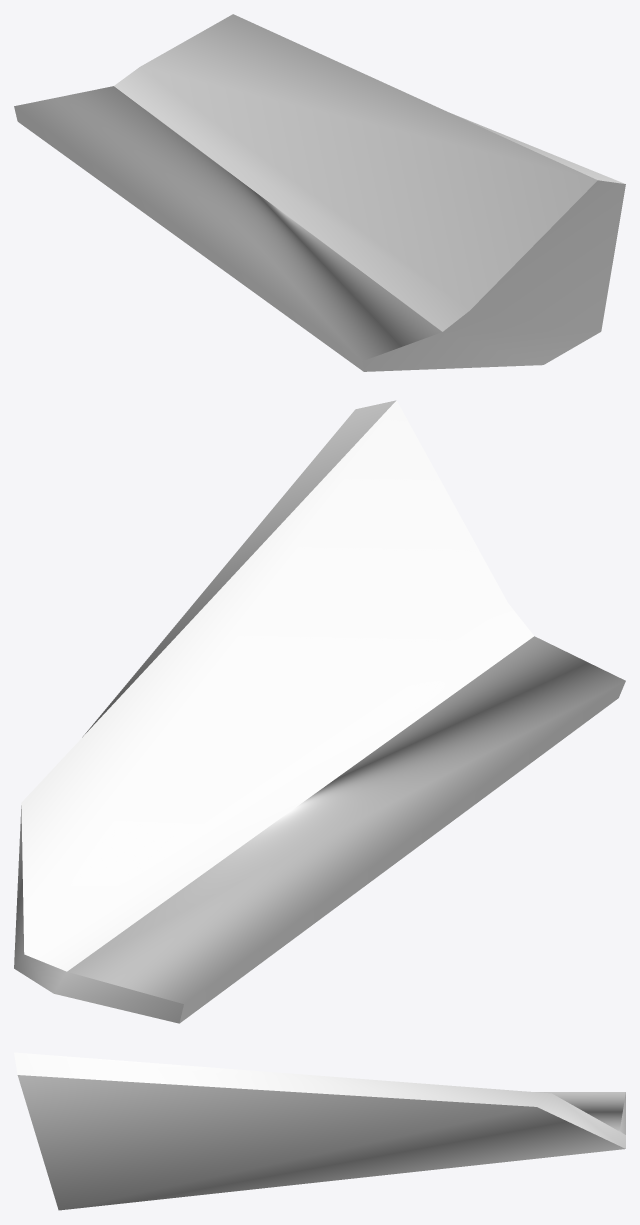
The model's file is wg_r_b_ssk.glb.
3 renders of one model, top to bottom at view 1: azimuth 30°, elevation 25°; view 2: azimuth 150°, elevation 25°; view 3: azimuth 270°, elevation 25°, orthographic. The views are drawn at different scales.
Parts seen in each view (by area): view 1: wg_r_b_ssk; view 2: wg_r_b_ssk; view 3: wg_r_b_ssk.
Boxes of the visible parts, <box> form: wg_r_b_ssk: <box>14,14,625,371</box>; wg_r_b_ssk: <box>14,400,625,1023</box>; wg_r_b_ssk: <box>14,1052,625,1210</box>.
Bounding box in the file's own units: 0.1546 × 0.1245 × 0.4212.
Materials: 1 (1 with a texture image).
